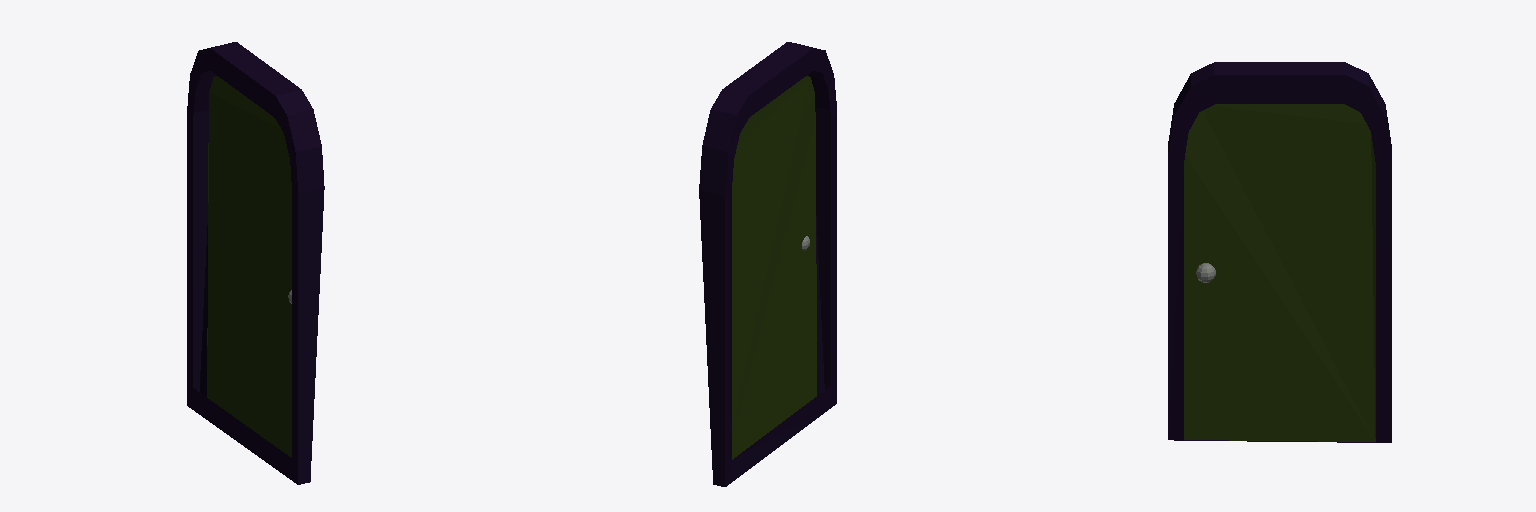
File: door2.obj
3 renders of one model, left to right at view 1: azimuth 30°, elevation 25°; view 2: azimuth 150°, elevation 25°; view 3: azimuth 270°, elevation 25°, orthographic.
Visible parts, largest first — view 1: door, doorframe; view 2: door, doorframe; view 3: door, doorframe.
Boxes of the visible parts, x1,y1,x2,y2 form: door: [207, 76, 291, 457]; doorframe: [187, 42, 324, 484]; door: [732, 76, 816, 459]; doorframe: [699, 42, 836, 486]; door: [1184, 104, 1375, 441]; doorframe: [1168, 62, 1391, 442].
Bounding box in the file's own units: 0.0594 × 0.7837 × 0.4239.